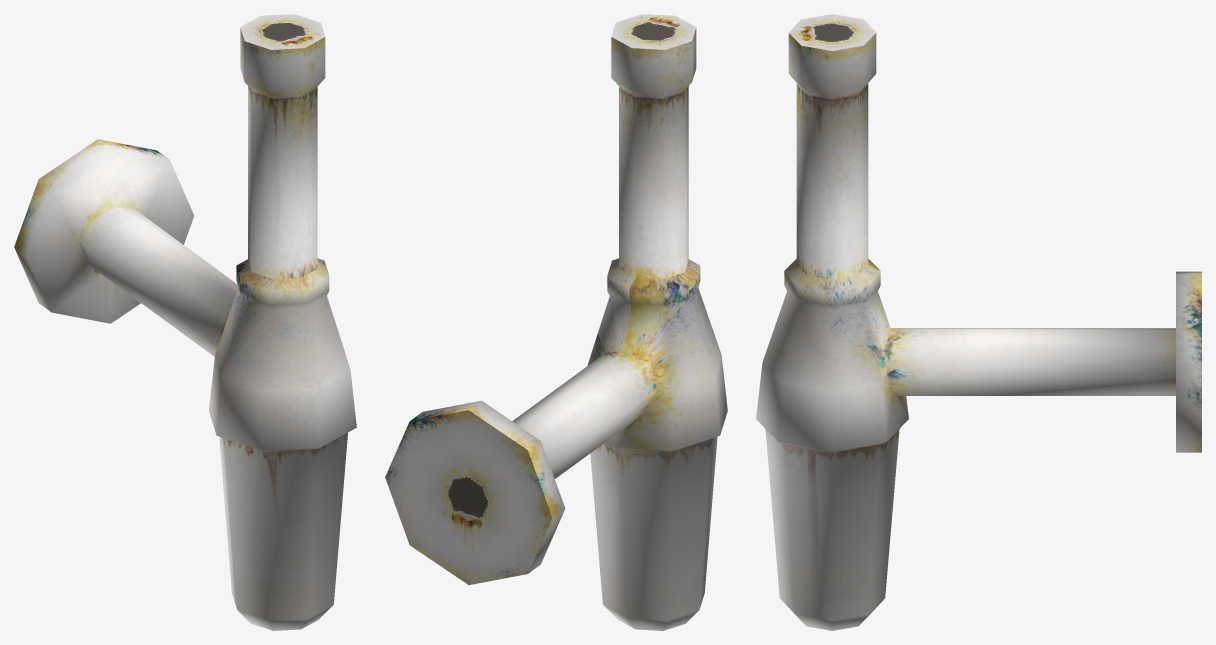
Rendered from washBasinTubes.FBX.
3 views of the same model, side by side, from view 1: azimuth 30°, elevation 25°; view 2: azimuth 150°, elevation 25°; view 3: azimuth 270°, elevation 25° (orthographic).
Parts seen in each view (by area): view 1: SM_WashBasinTubes; view 2: SM_WashBasinTubes; view 3: SM_WashBasinTubes.
Part boxes in pixels (left/top/right/bottom): SM_WashBasinTubes: left=14, top=14, right=356, bottom=630; SM_WashBasinTubes: left=385, top=14, right=727, bottom=630; SM_WashBasinTubes: left=756, top=14, right=1201, bottom=630.
Bounding box in the file's own units: 13.07 × 44.06 × 30.23.
Materials: 1 (1 with a texture image).
